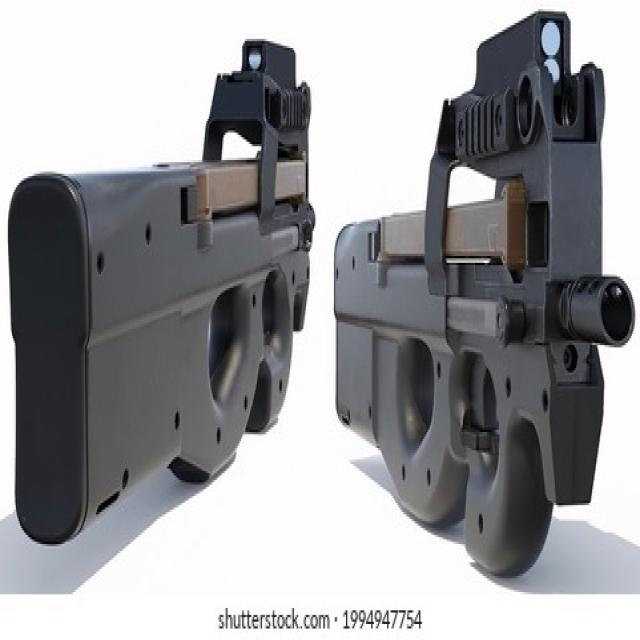SMG: (333, 11, 639, 581), (5, 39, 317, 549)
